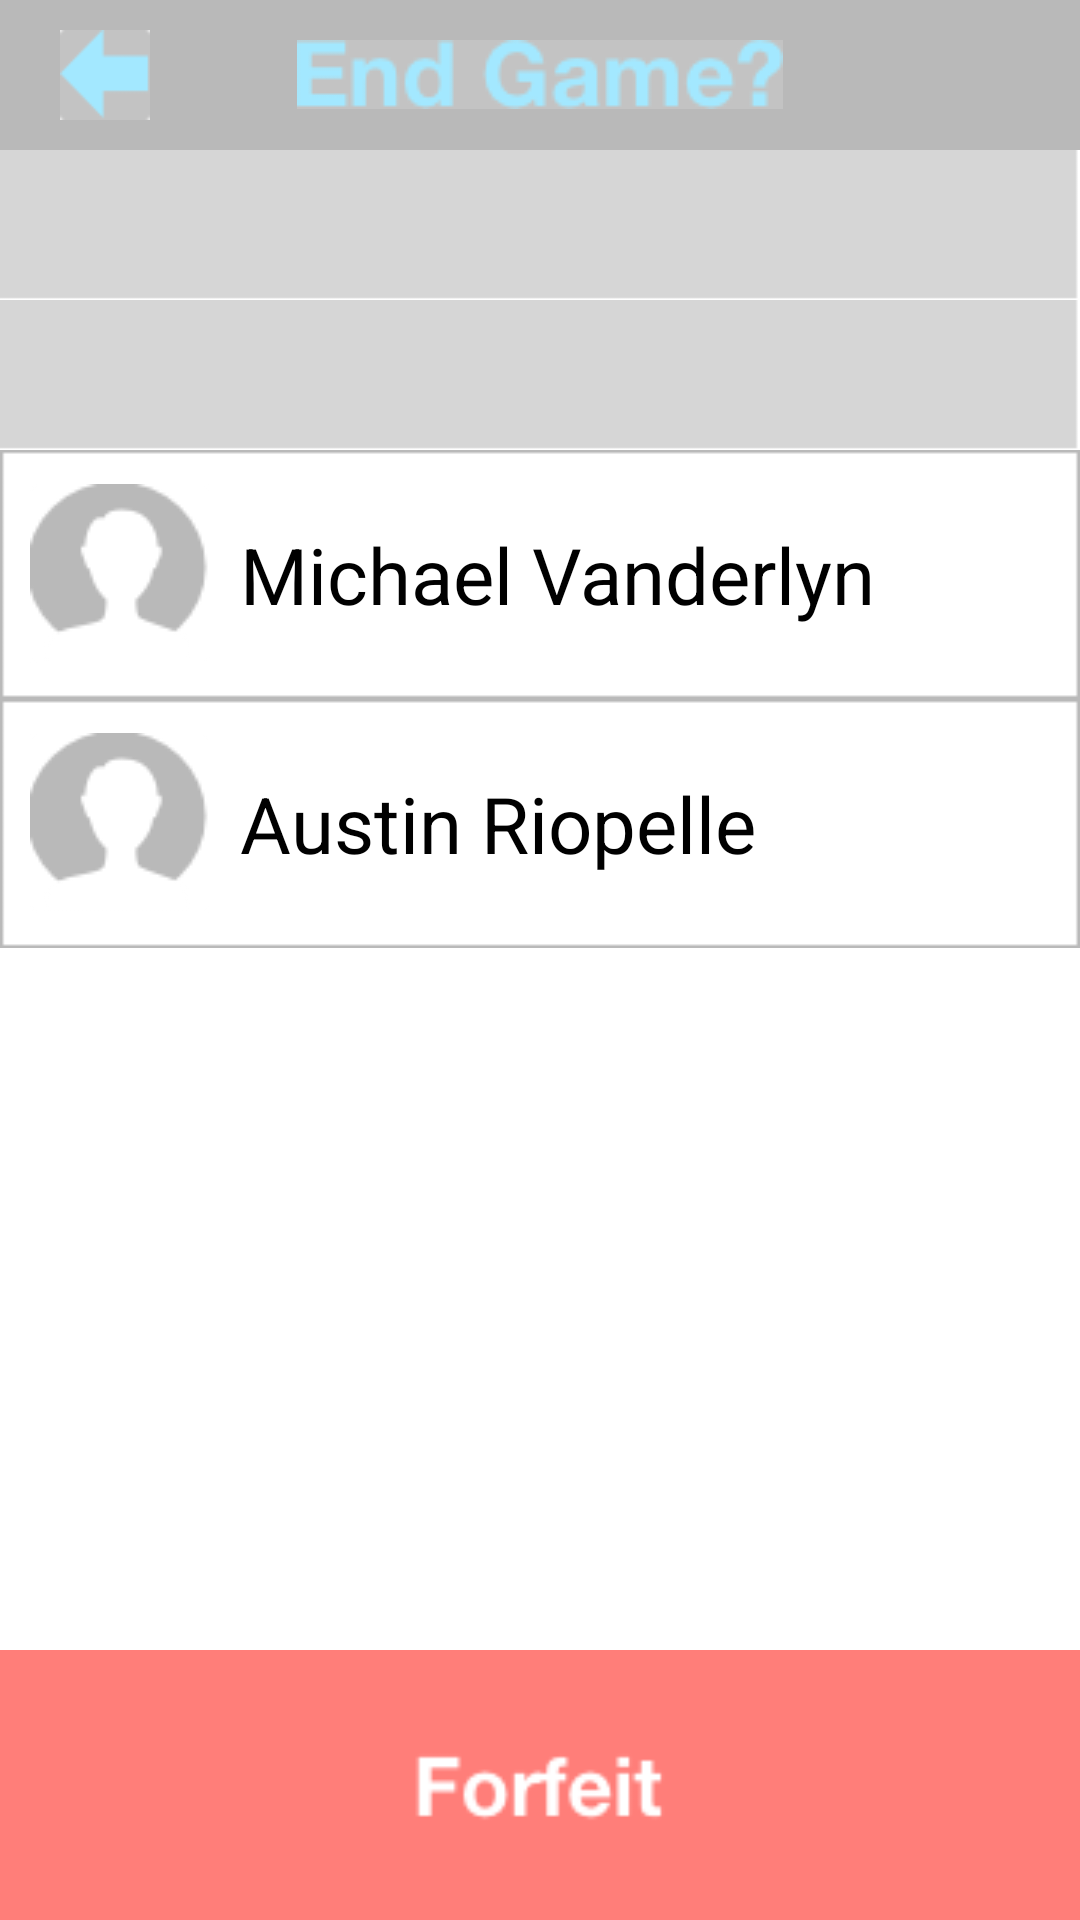

Icons on this 1080w x 1920h Android screen, each with its box as (x1, y1, x2, y2):
filler friend pic: (30, 484, 206, 632), (30, 733, 206, 881)
